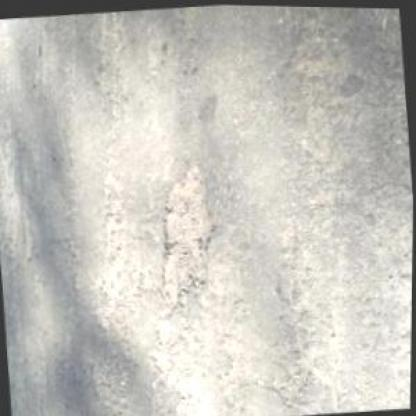pothole: (148, 158, 225, 309)
